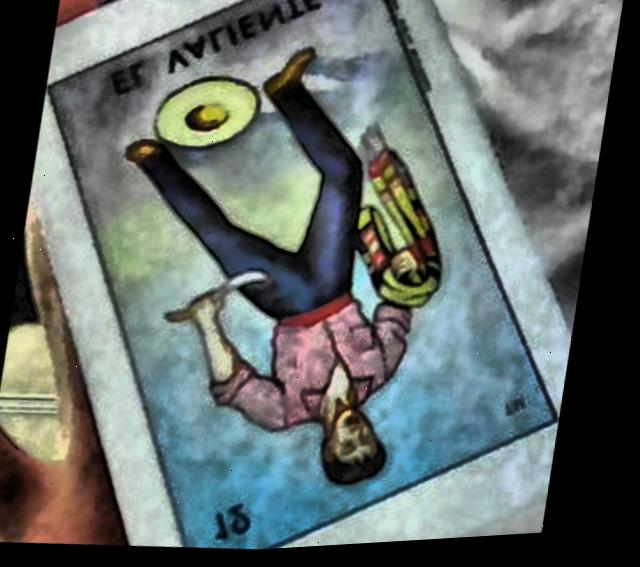El Valiente: (50, 0, 562, 553)
